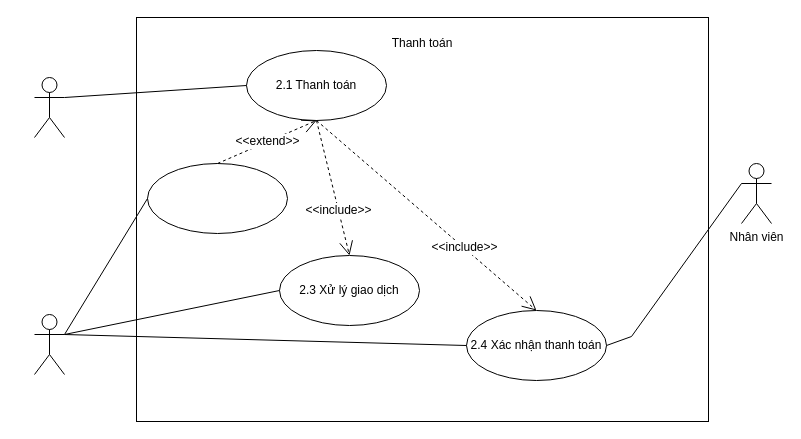
This 801x439 diagram has some shape labels left out. Each missing label, with the box of its shape:
2.2 Đưa thông tin thanh toán: (146, 162, 288, 234)
Hệ thống thanh toán: (34, 314, 64, 374)
Khách hàng: (34, 76, 64, 138)
